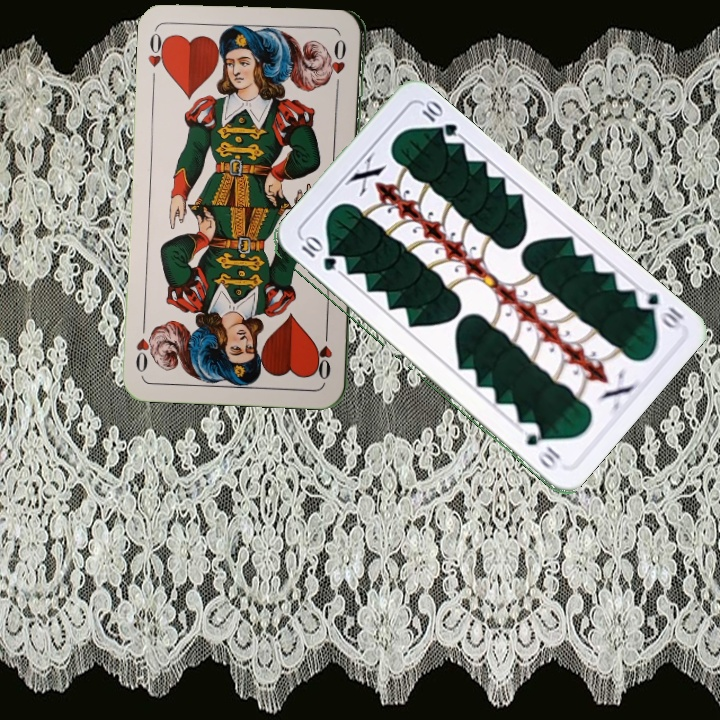G10: (631, 284, 686, 333), (297, 234, 339, 274)
HO: (144, 26, 171, 75), (315, 324, 335, 382)
